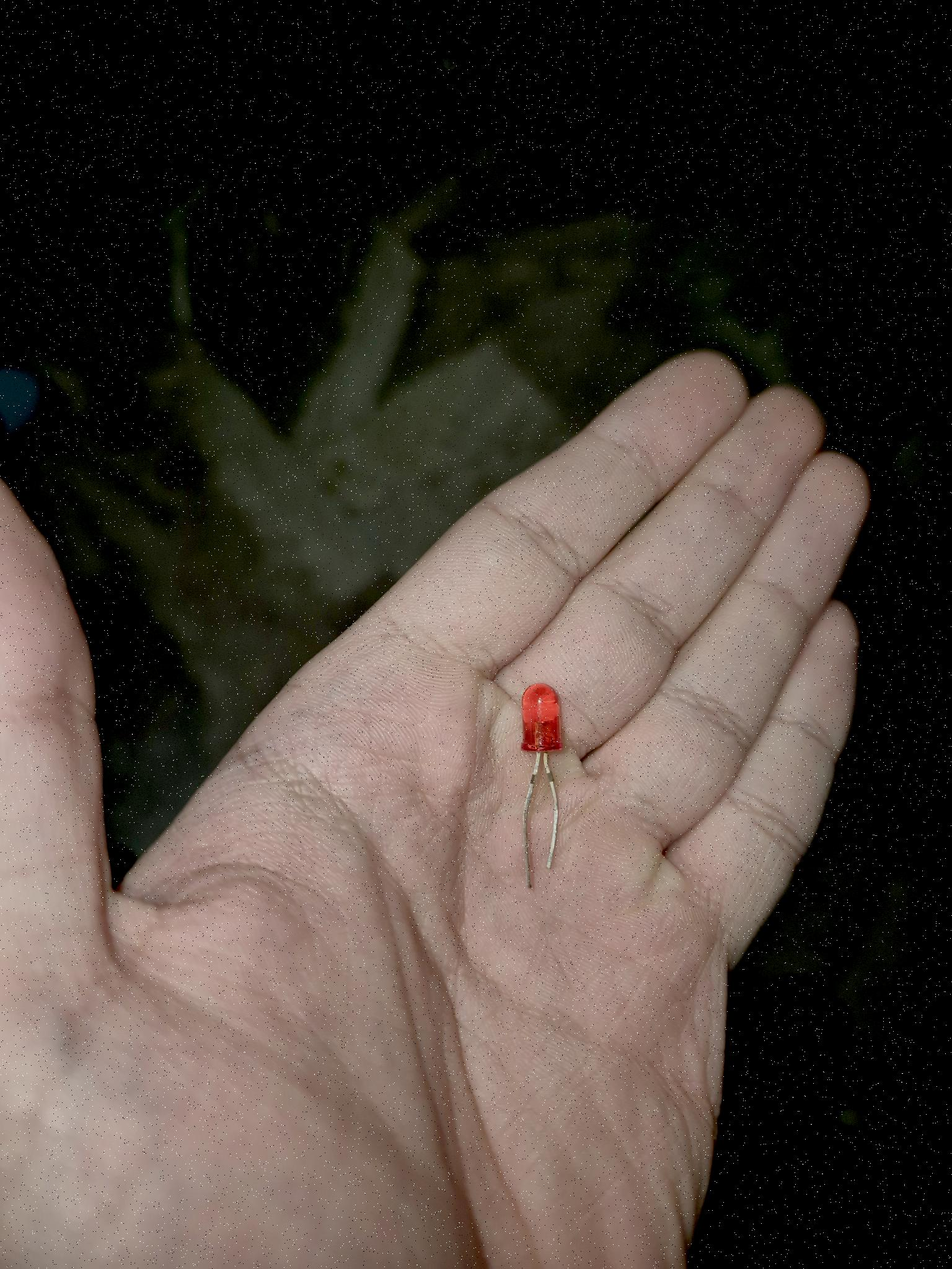led-diode: (521, 683, 562, 885)
